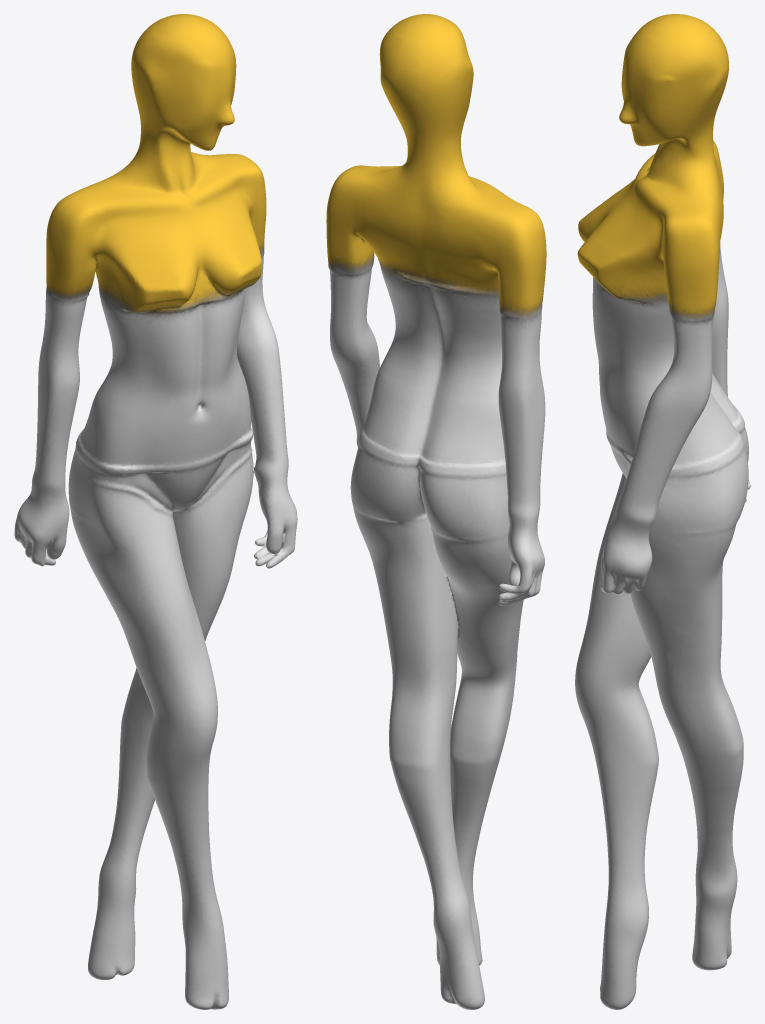
Rendered from mannequin_female.glb.
3 views of the same model, side by side, from view 1: azimuth 30°, elevation 25°; view 2: azimuth 150°, elevation 25°; view 3: azimuth 270°, elevation 25° (orthographic).
Size of the model in its own units: 0.1243 by 0.512 by 0.0827.
1 material, 1 textured.
